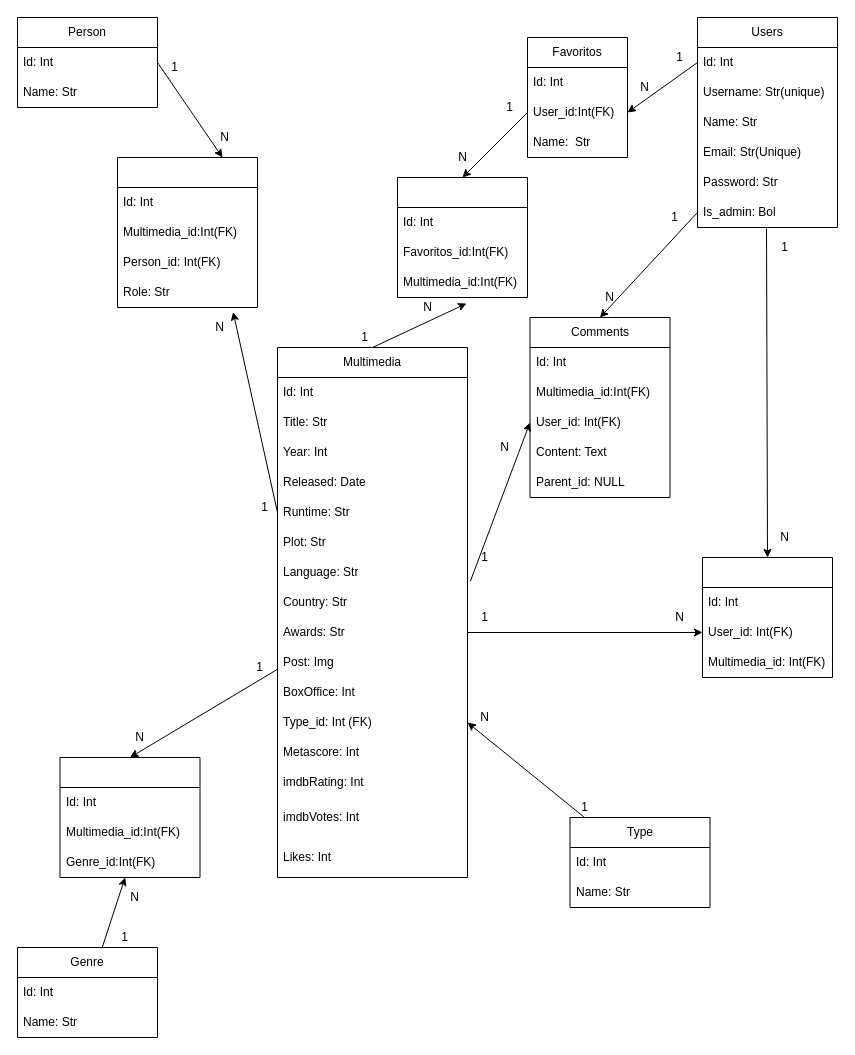
This 855x1055 diagram has some shape labels left out. The box of each missing label's shape, as (x1, y1, x2, y2) in pixels:
Likes: (702, 556, 832, 678)
Multimedia_Favoritos: (396, 176, 528, 298)
Multimedia_Genre: (59, 756, 200, 878)
Person_role: (116, 156, 258, 308)
